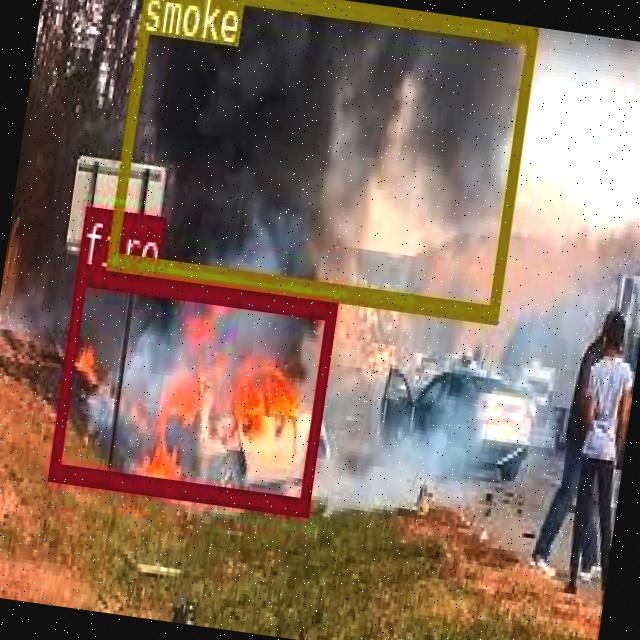fire: (47, 265, 336, 512)
smoke: (106, 0, 535, 317)
